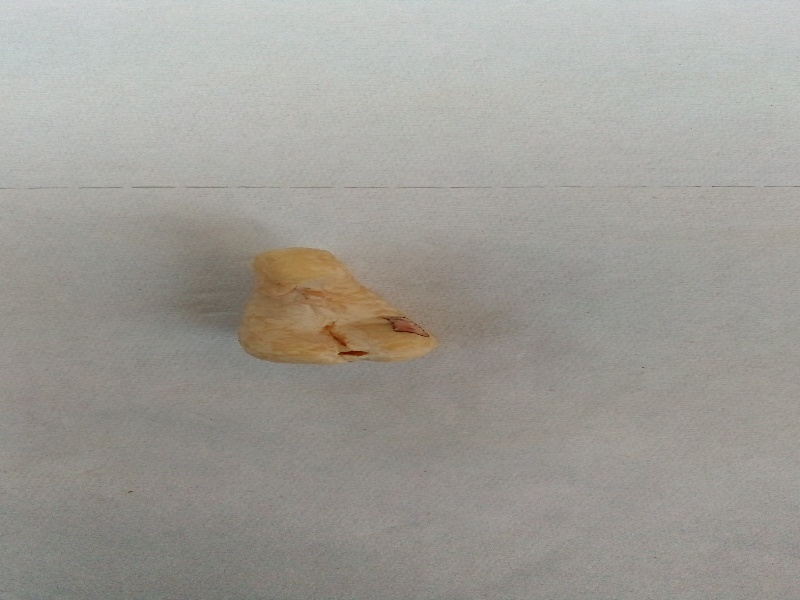cashew: (221, 222, 450, 393)
